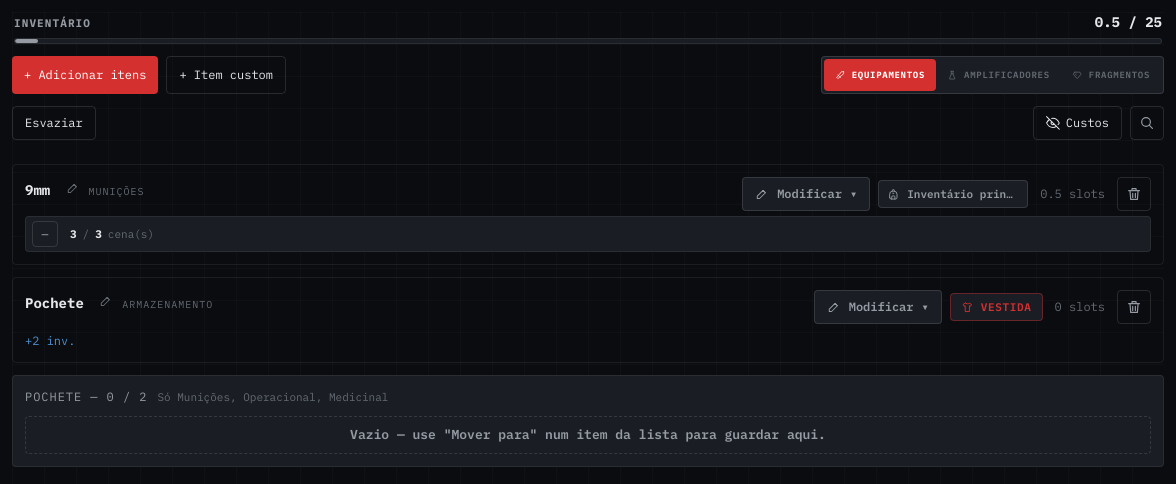
Scenario: FichaInventario › sub-inventários próprios — Pochete/Bolso de Corpo (m3-44) › o menu "Mover para" (popover próprio, não `<select>` nativo) reflete o container atual e move ao clicar numa opção
This screenshot has width=1176, height=484.
Click the button with class "ficha-inv__mover-gatilho".
click(953, 194)  # box 878,180 -> 1028,208
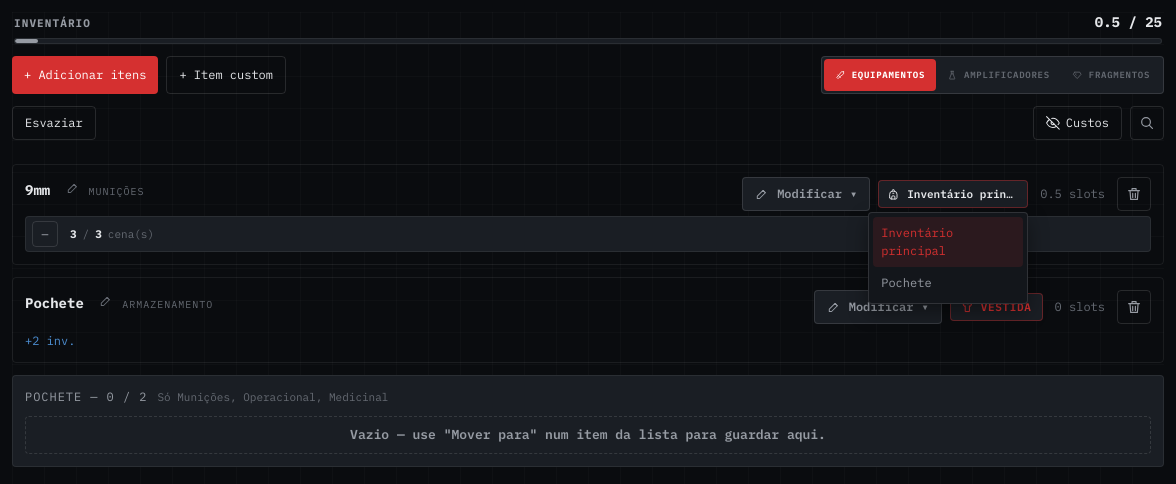
Click the option with class "ficha-inv__mover-opcao" showing "Pochete".
click(948, 283)  # box 873,267 -> 1023,299
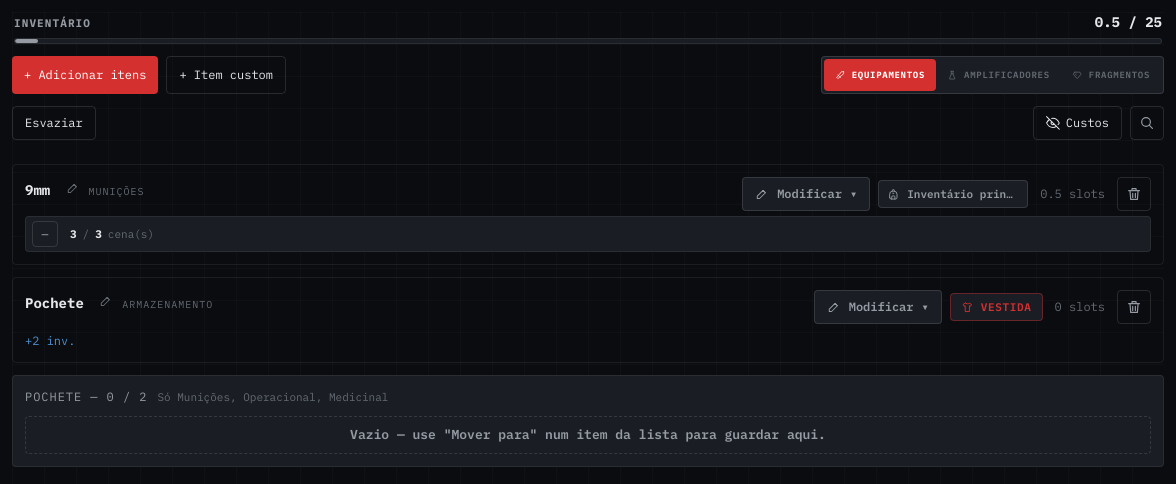
Result: the list with class "ficha-inv__mover-lista" is gone
